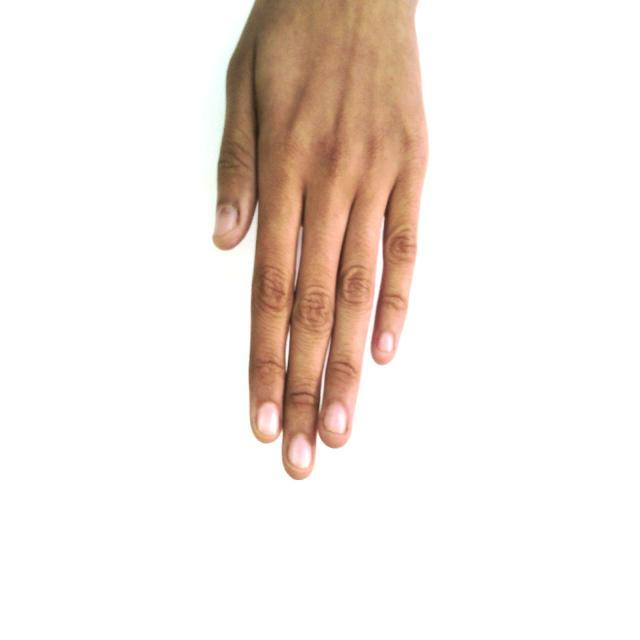Fingernail: (258, 402, 279, 438), (289, 436, 311, 469), (214, 205, 237, 236), (325, 404, 346, 433), (378, 332, 394, 354)
